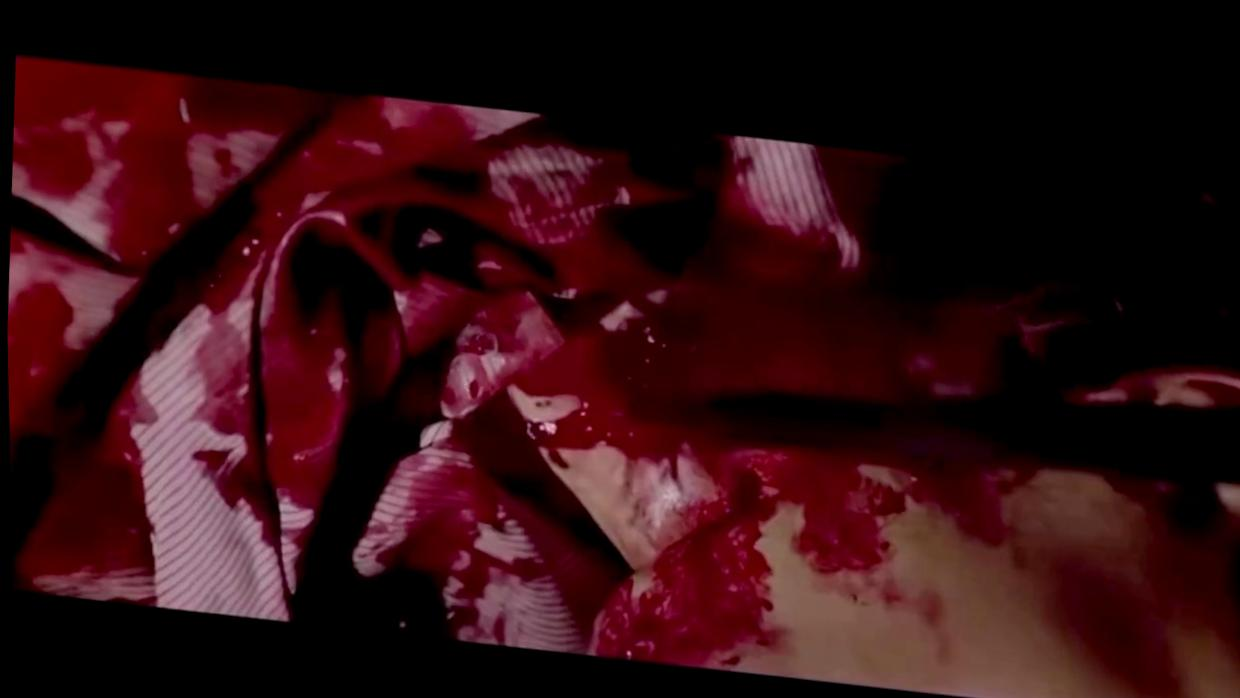Fire: (6, 57, 1164, 695)
